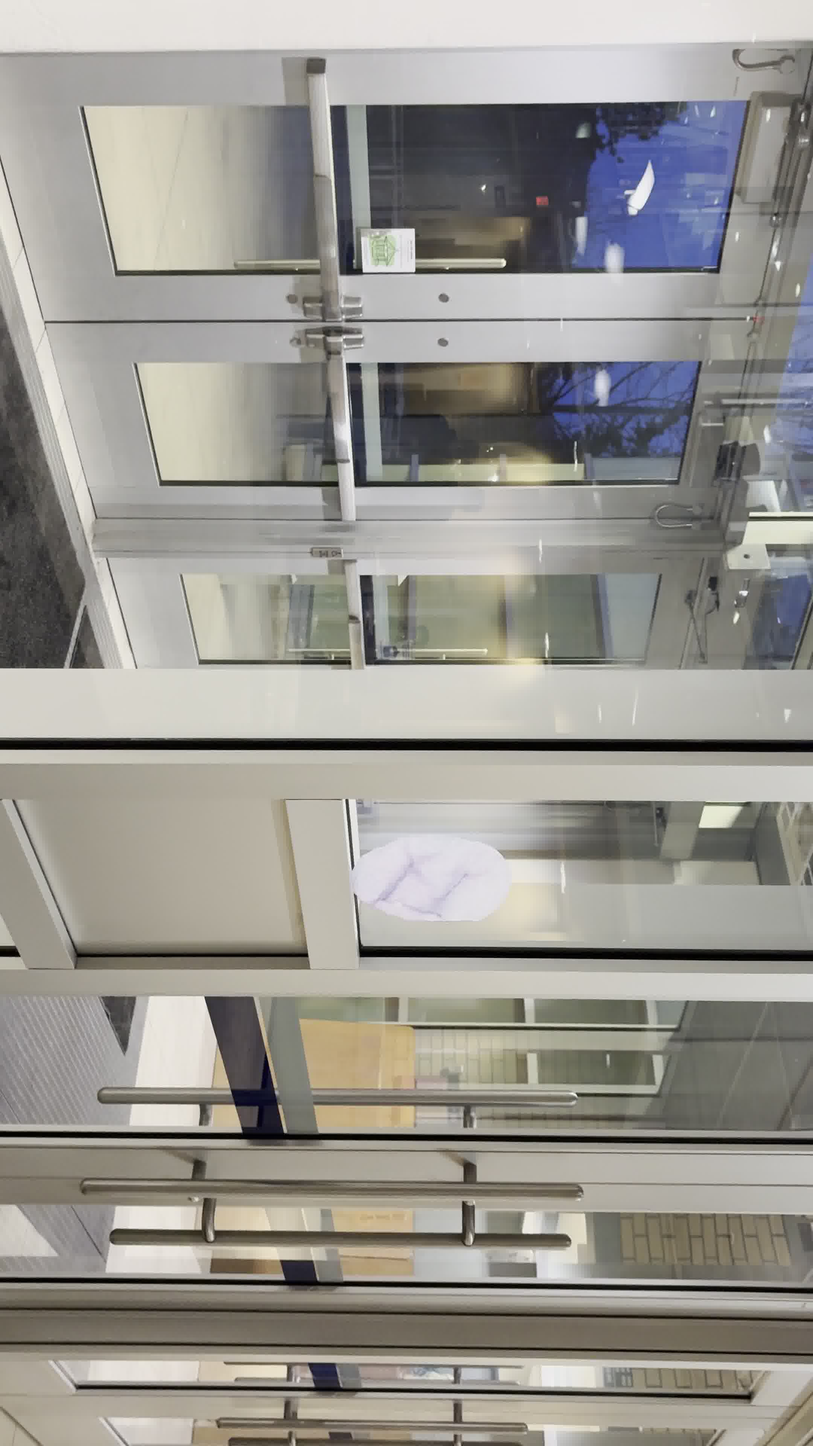Target: (348, 808, 515, 935)
